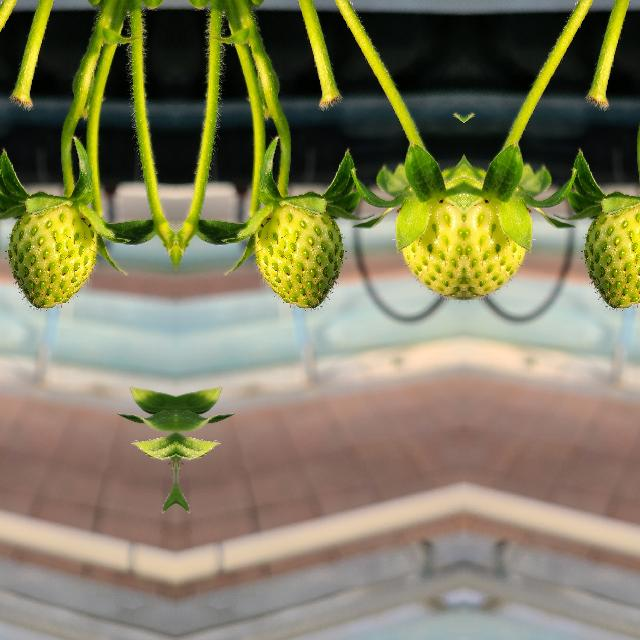Health_25: (254, 206, 342, 308), (8, 206, 96, 308), (398, 192, 462, 304), (464, 192, 528, 304), (583, 206, 640, 307)
